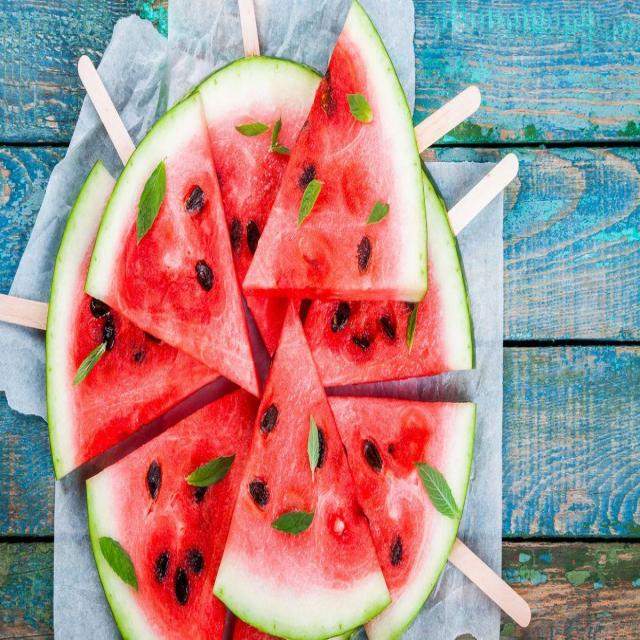watermelon: (211, 296, 395, 640), (44, 156, 236, 480), (252, 3, 432, 314), (79, 367, 274, 640), (86, 102, 259, 402), (179, 43, 328, 380), (308, 379, 474, 640)
